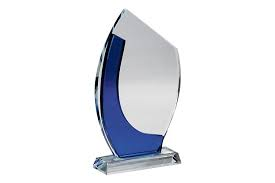trophy: (92, 8, 185, 176)
